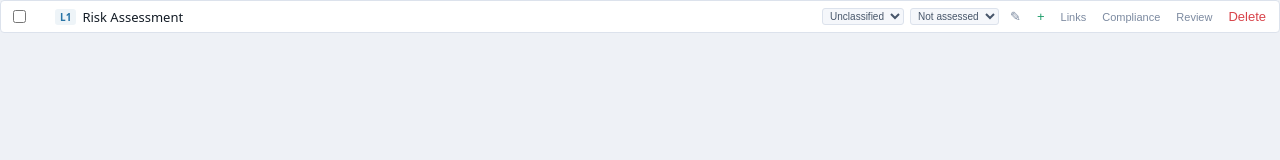
CapabilityNode (COMPLY-02 US3 — mapped compliance controls) › shows 'No controls mapped yet' when there are none
Step 1. Click the button "Compliance" → (1131, 16), box [1097, 10, 1165, 24]
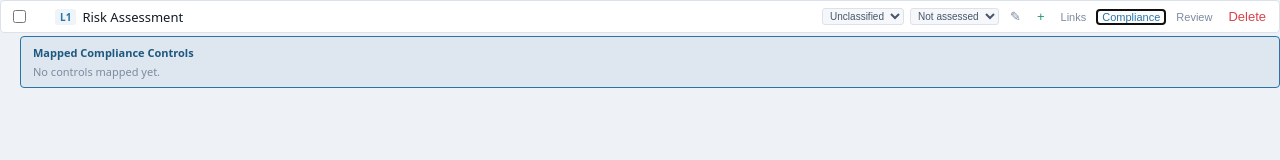
Result: the text "No controls mapped yet." is shown at [33, 64, 160, 79]
